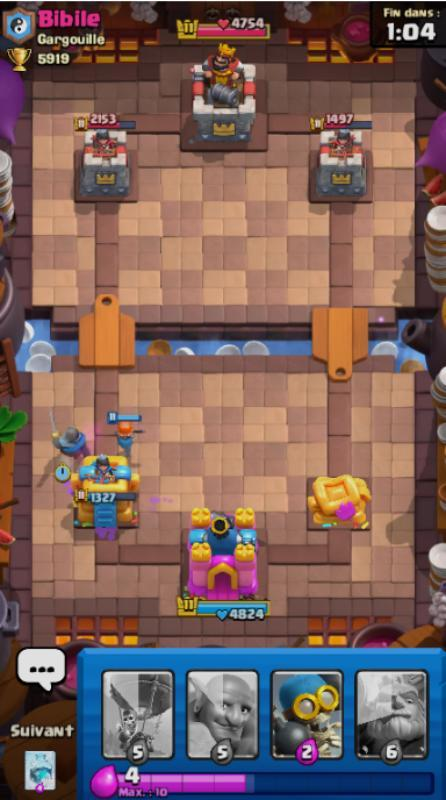player_knight: (45, 410, 92, 462)
player_valkyrie: (102, 410, 154, 458)
